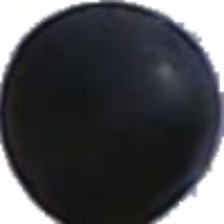grapes: (6, 41, 204, 219)
